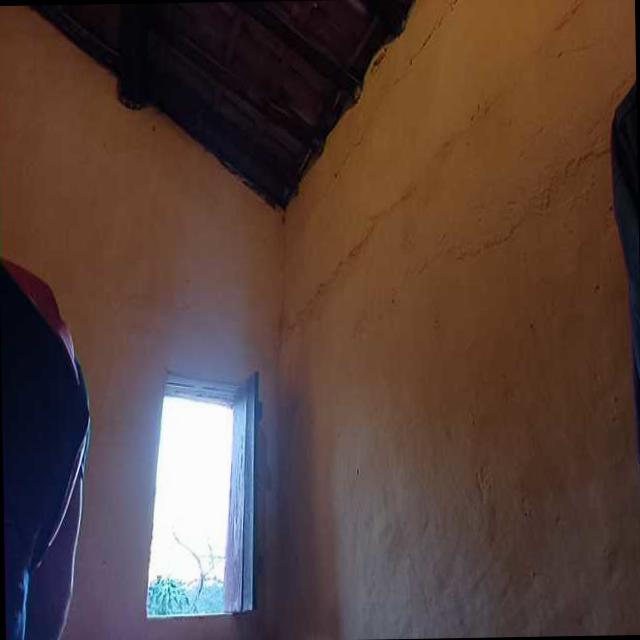colete: (0, 268, 91, 589)
pessoa: (1, 325, 101, 640)
